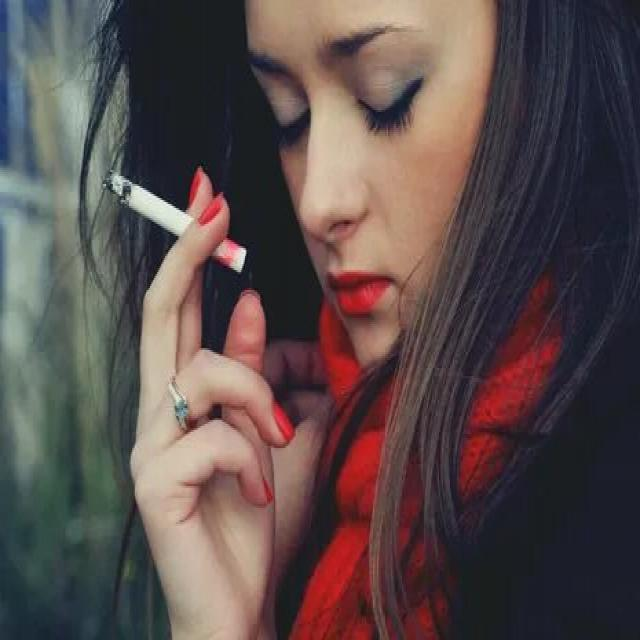cigarette: (100, 162, 250, 284)
